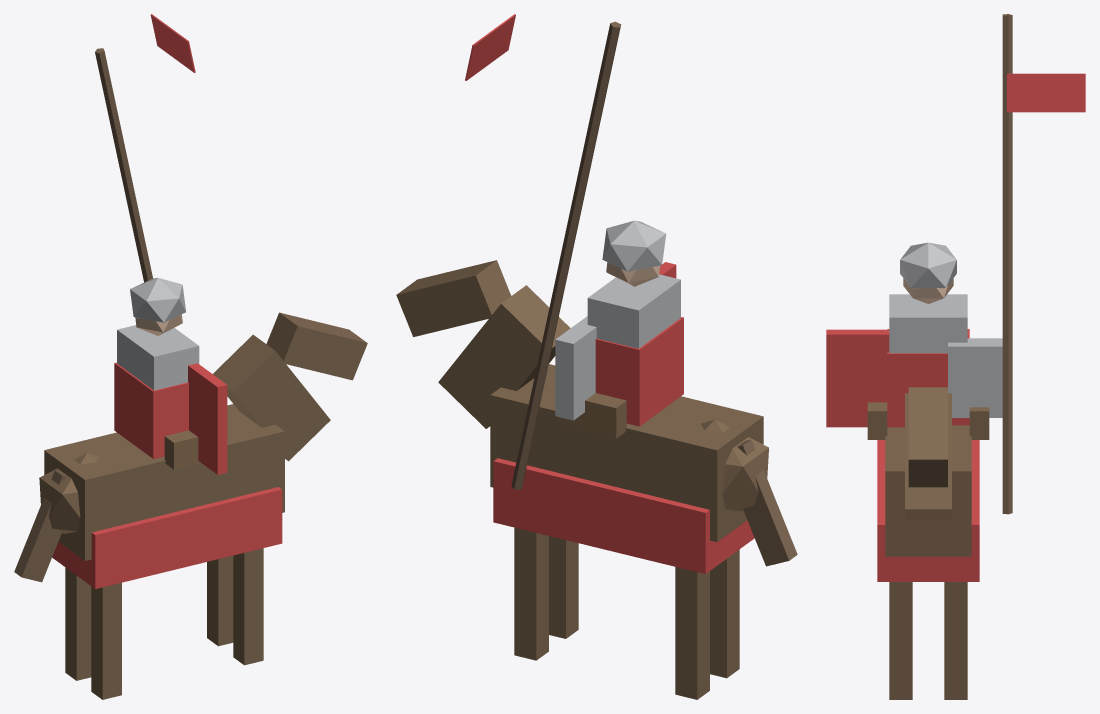
The model's file is army.glb.
3 renders of one model, left to right at view 1: azimuth 30°, elevation 25°; view 2: azimuth 150°, elevation 25°; view 3: azimuth 270°, elevation 25°, orthographic. The views are drawn at different scales.
Parts seen in each view (by area): view 1: army; view 2: army; view 3: army.
Boxes of the visible parts, x1,y1,x2,y2 form: army: (14, 14, 367, 699); army: (396, 14, 797, 699); army: (826, 14, 1085, 699).
Size of the model in its own units: 1.06 by 1.77 by 0.66.
